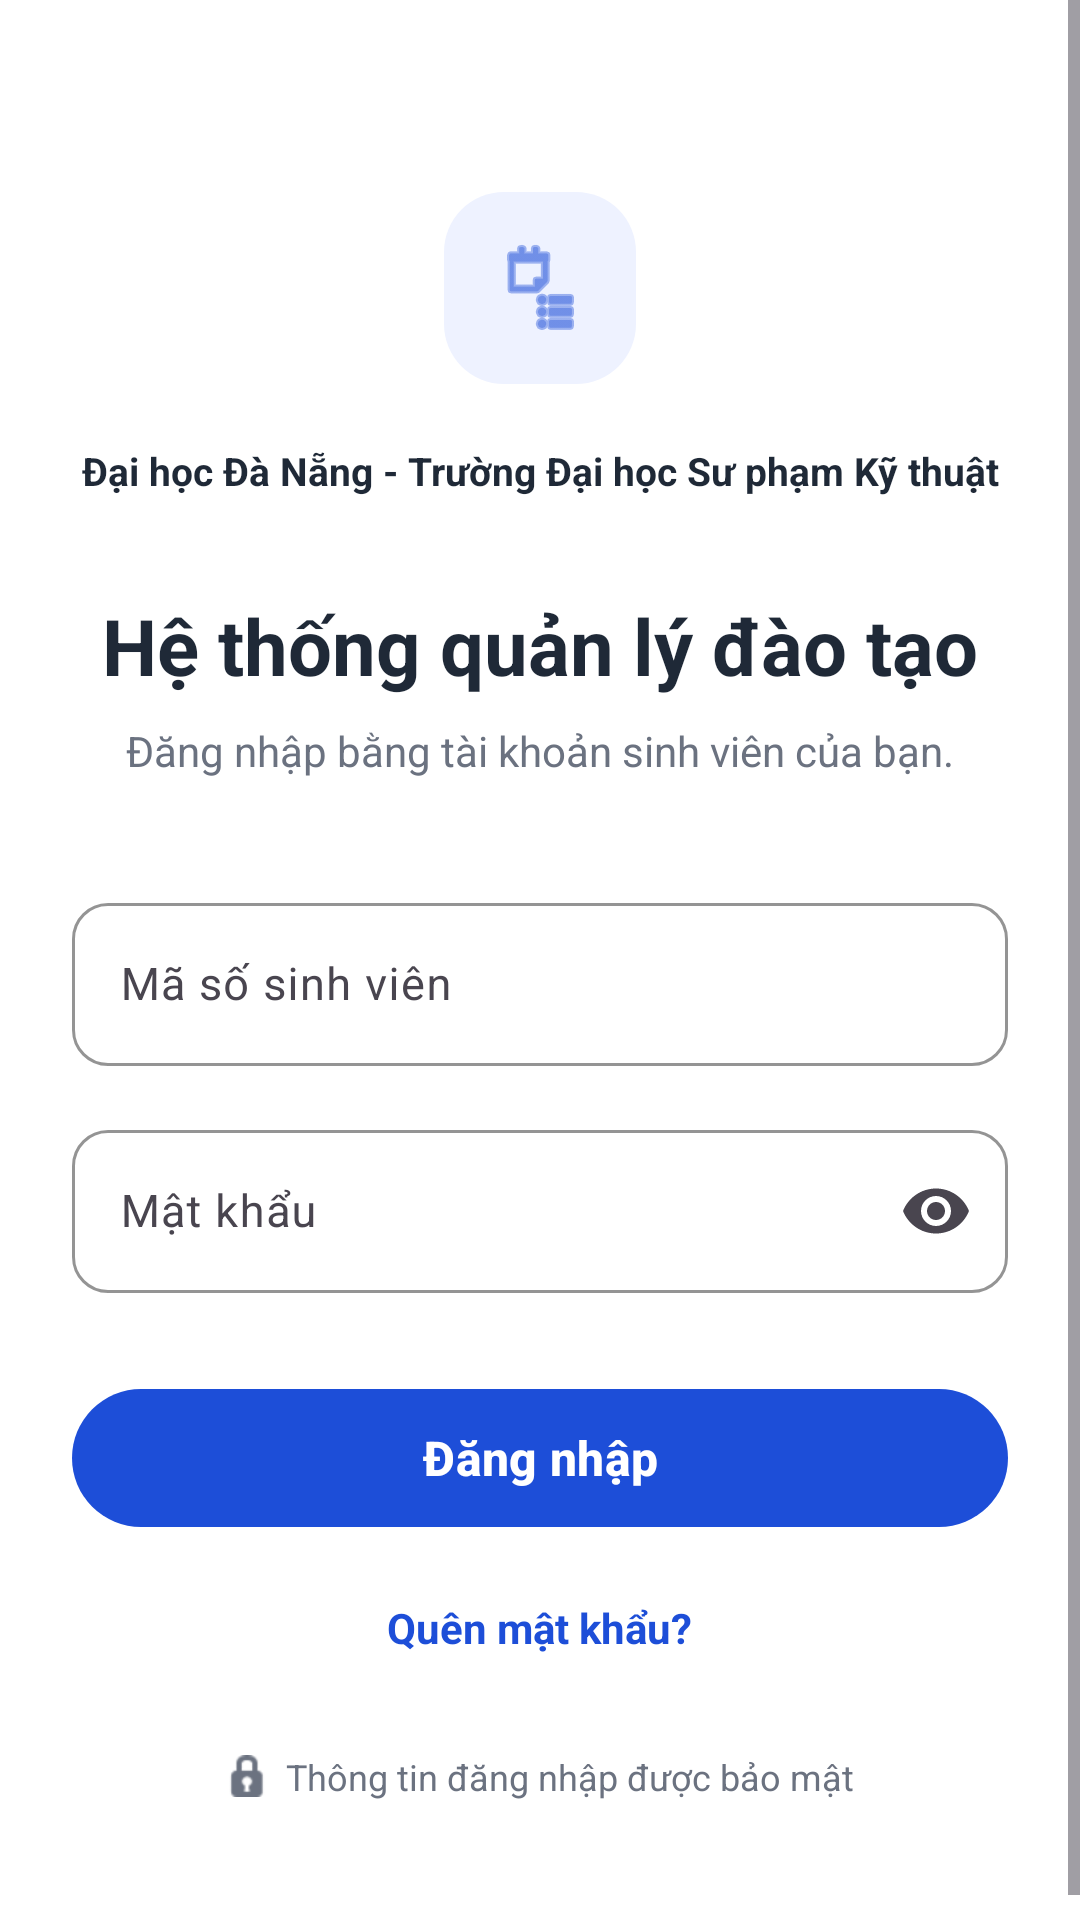

Icon bounding boxes for this 1080w x 1920h phone screenshot, format detection(x1, y1, x2, y2):
Lock: detection(231, 1755, 263, 1797)
